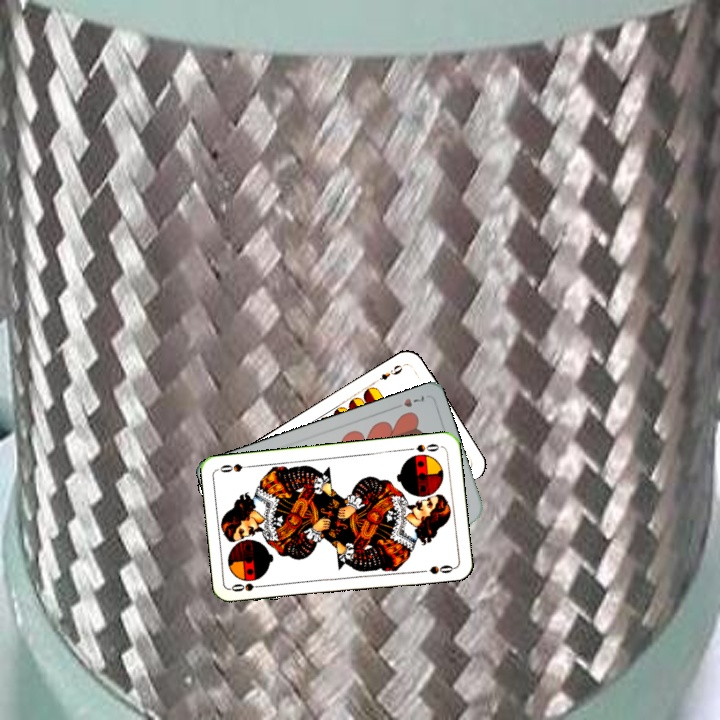E9: (376, 360, 408, 383)
H7: (389, 391, 427, 412)
SO: (403, 440, 444, 455), (228, 579, 268, 594)
